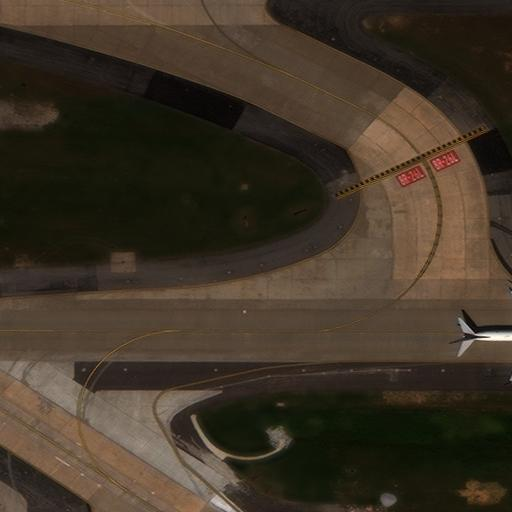Medium Civil Transport: (455, 291, 511, 382)
